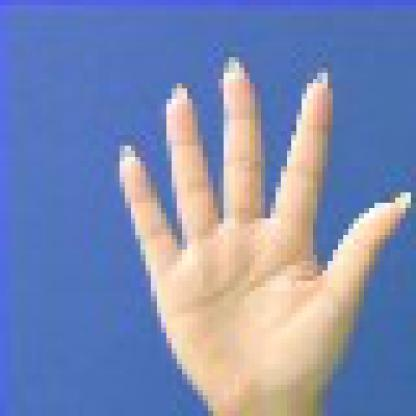five: (104, 36, 411, 411)
